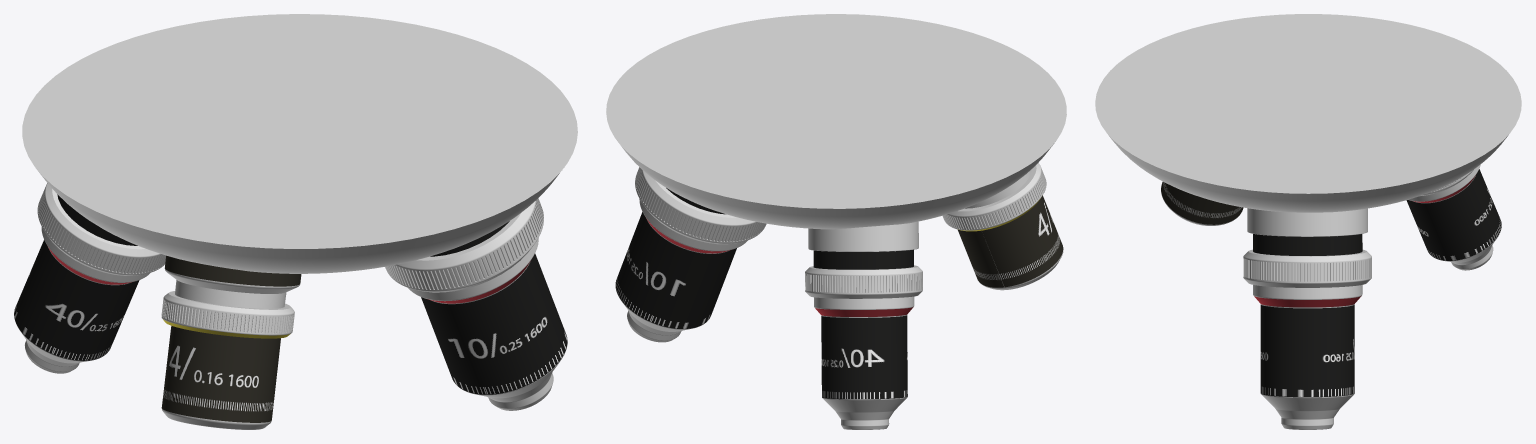
Rendered from microscope - obj lenses.glb.
The picture shows the model from 3 angles, left to right: view 1: azimuth 30°, elevation 25°; view 2: azimuth 150°, elevation 25°; view 3: azimuth 270°, elevation 25°; orthographic projection. The views are drawn at different scales.
Visible parts, largest first — view 1: Base Dome Grp, Lens - 10 Grp, Lens - 4 Grp, Lens - 40 Grp; view 2: Base Dome Grp, Lens - 40 Grp, Lens - 10 Grp, Lens - 4 Grp; view 3: Base Dome Grp, Lens - 10 Grp, Lens - 40 Grp, Lens - 4 Grp.
Part boxes in pixels (x1,y1,x2,y2): Base Dome Grp: [22, 14, 577, 273]; Lens - 10 Grp: [385, 198, 567, 410]; Lens - 4 Grp: [161, 255, 301, 429]; Lens - 40 Grp: [14, 183, 165, 373]; Base Dome Grp: [606, 14, 1066, 229]; Lens - 40 Grp: [805, 221, 922, 429]; Lens - 10 Grp: [615, 167, 766, 342]; Lens - 4 Grp: [942, 163, 1063, 290]; Base Dome Grp: [1095, 14, 1521, 212]; Lens - 10 Grp: [1243, 208, 1371, 429]; Lens - 40 Grp: [1406, 164, 1501, 270]; Lens - 4 Grp: [1161, 182, 1243, 225].
Bounding box in the file's own units: 1.05 × 0.6519 × 1.01.
7 materials, 3 textured.
